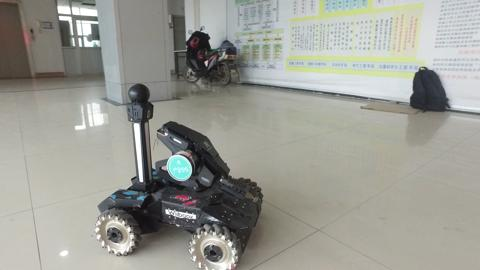bag: (405, 64, 456, 115)
chariot: (84, 77, 271, 269)
